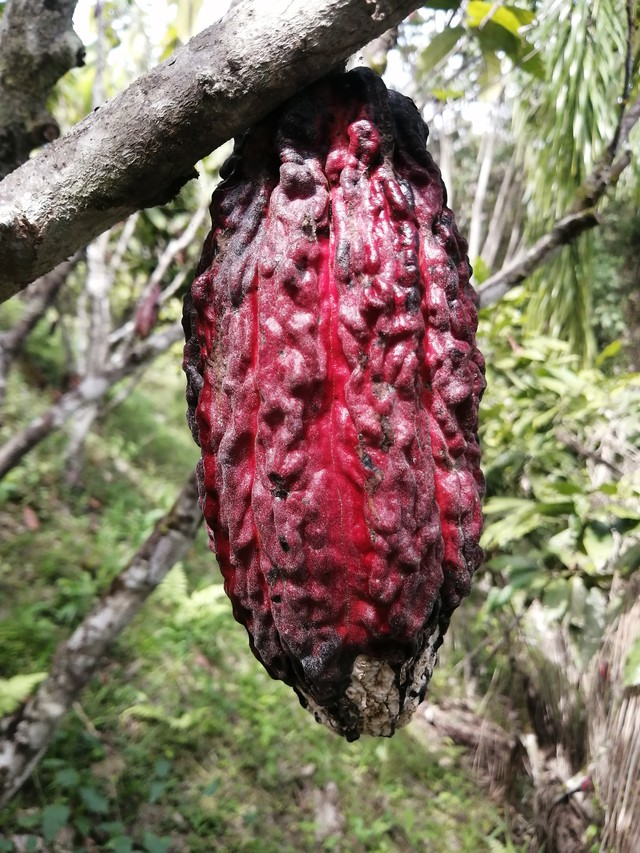moniliophthora roreri: (175, 58, 513, 755)
